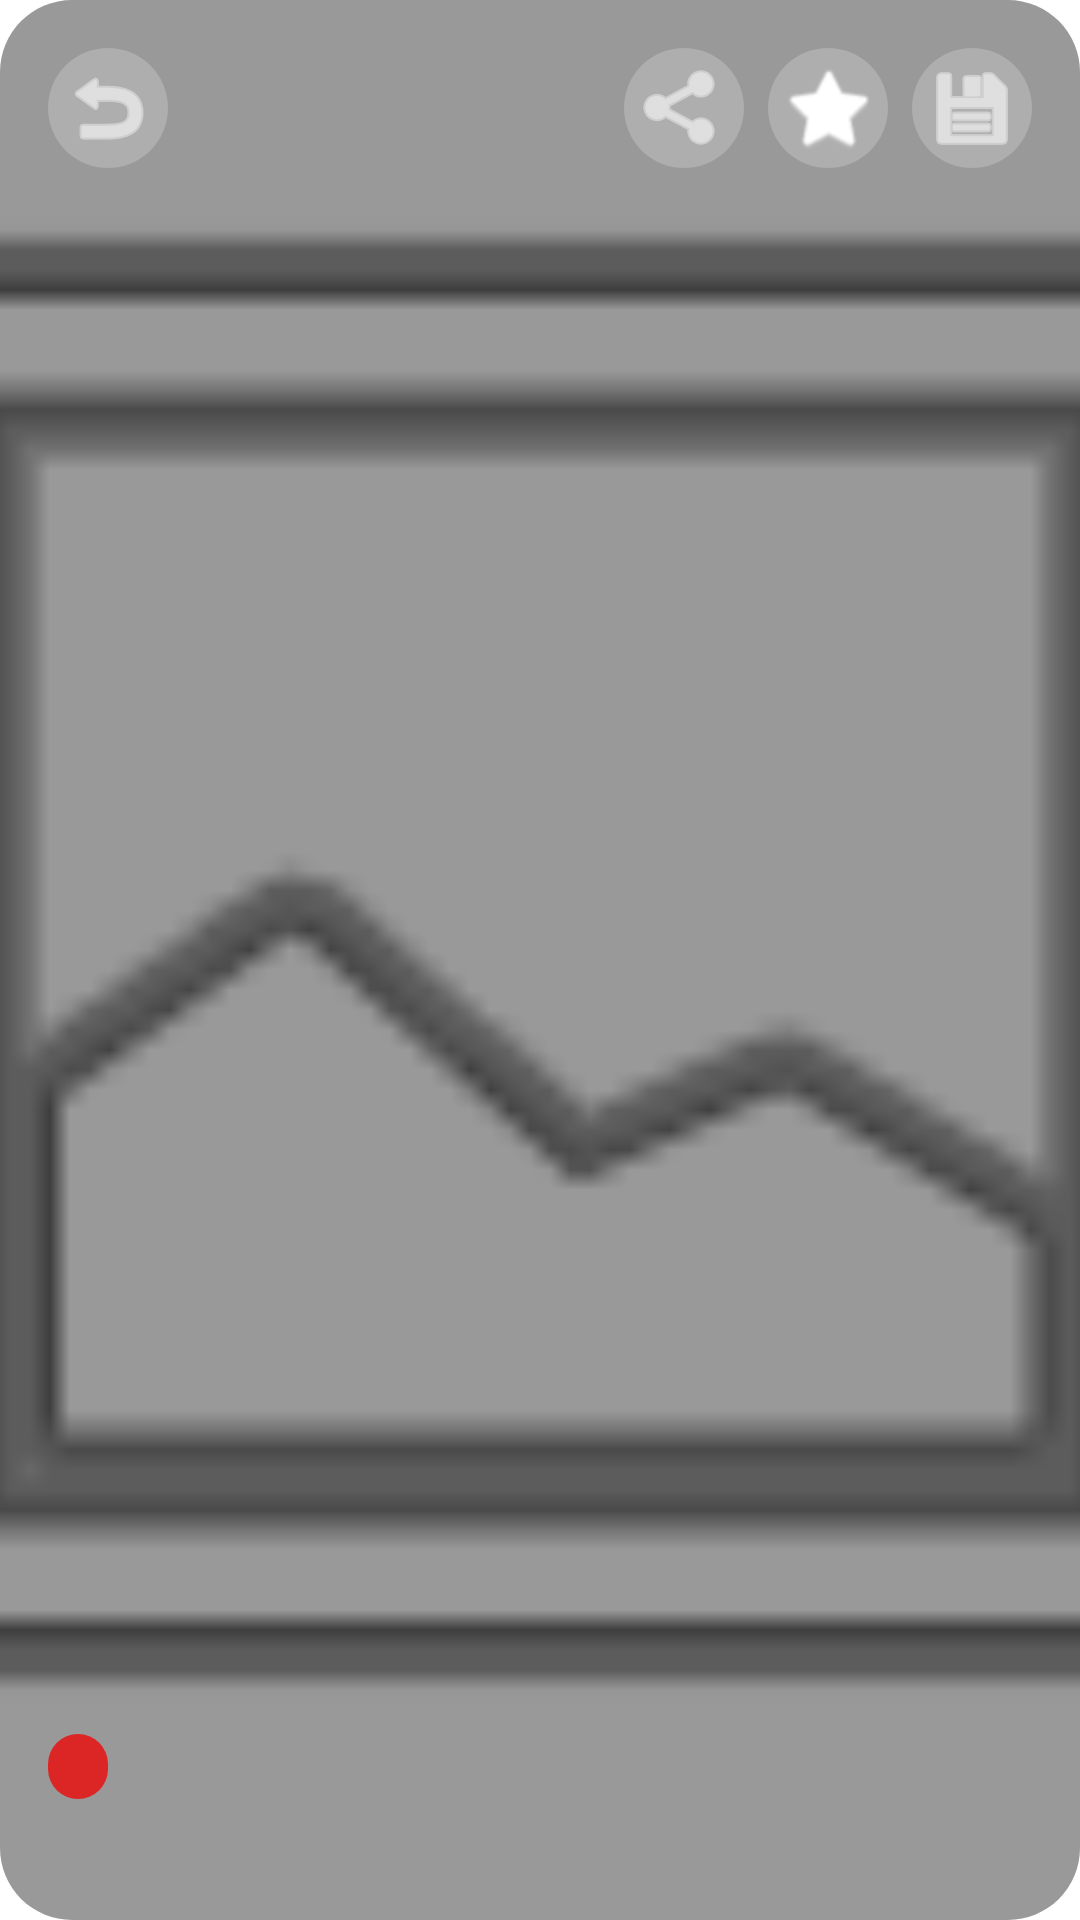

Screen size 1080 × 1920. Icon name, then its center in pixels as point (x, y):
Bookmark: point (828, 109)
